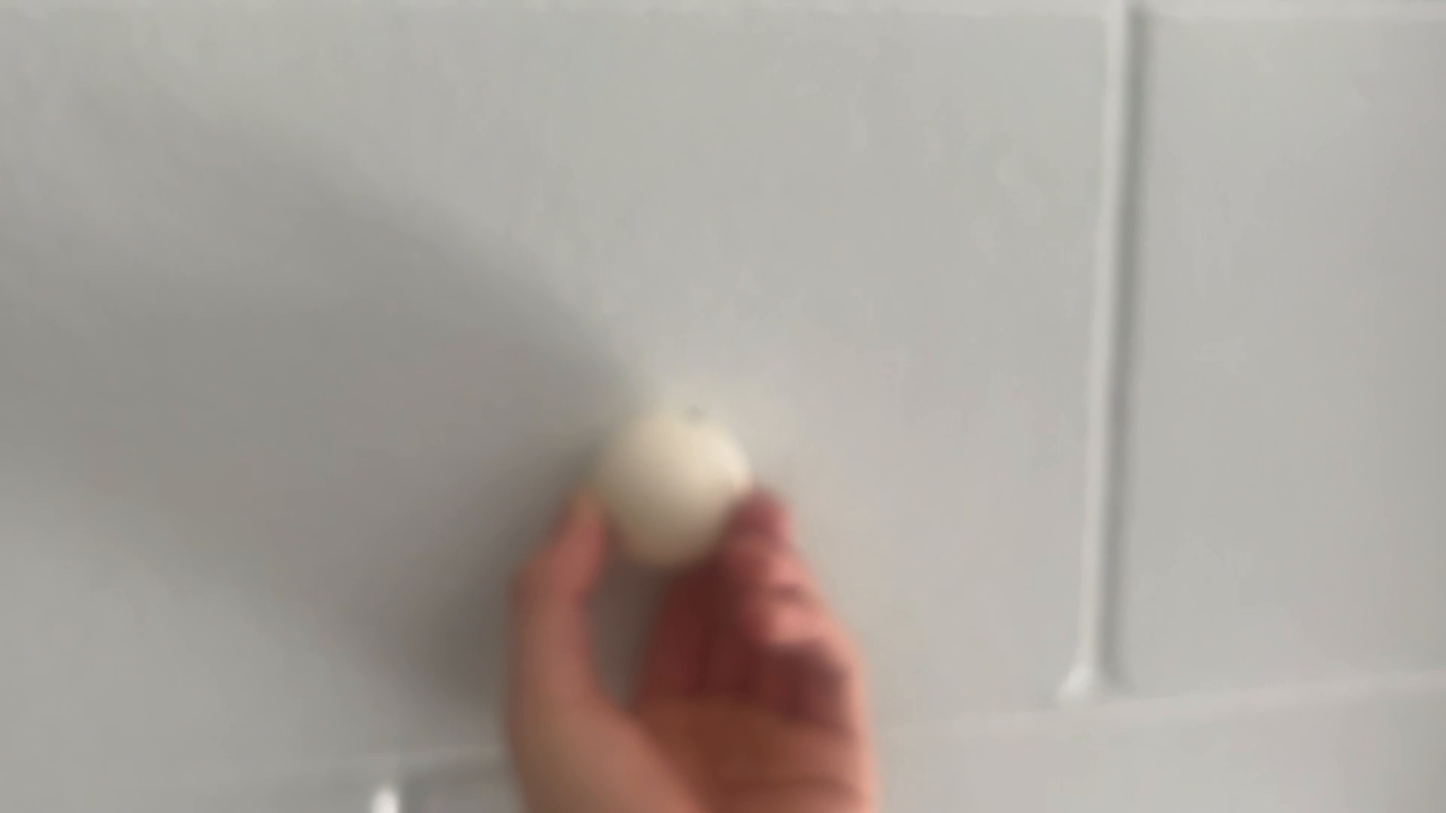Ball: (594, 408, 766, 580)
